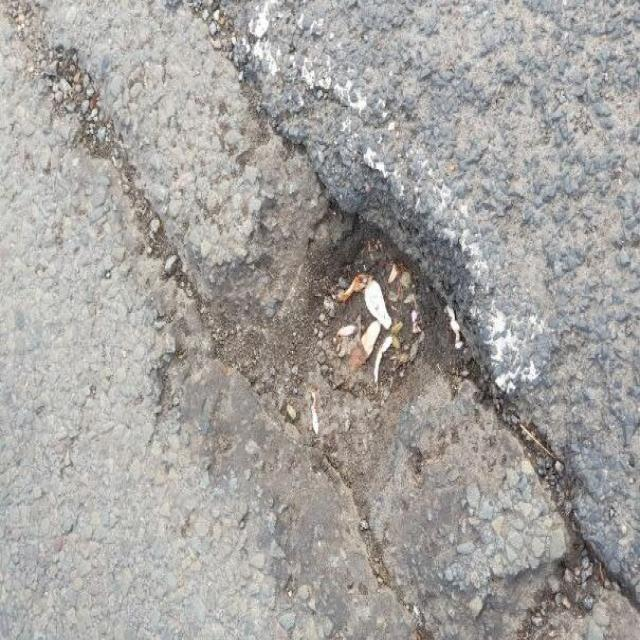Pothole: (148, 103, 532, 488)
